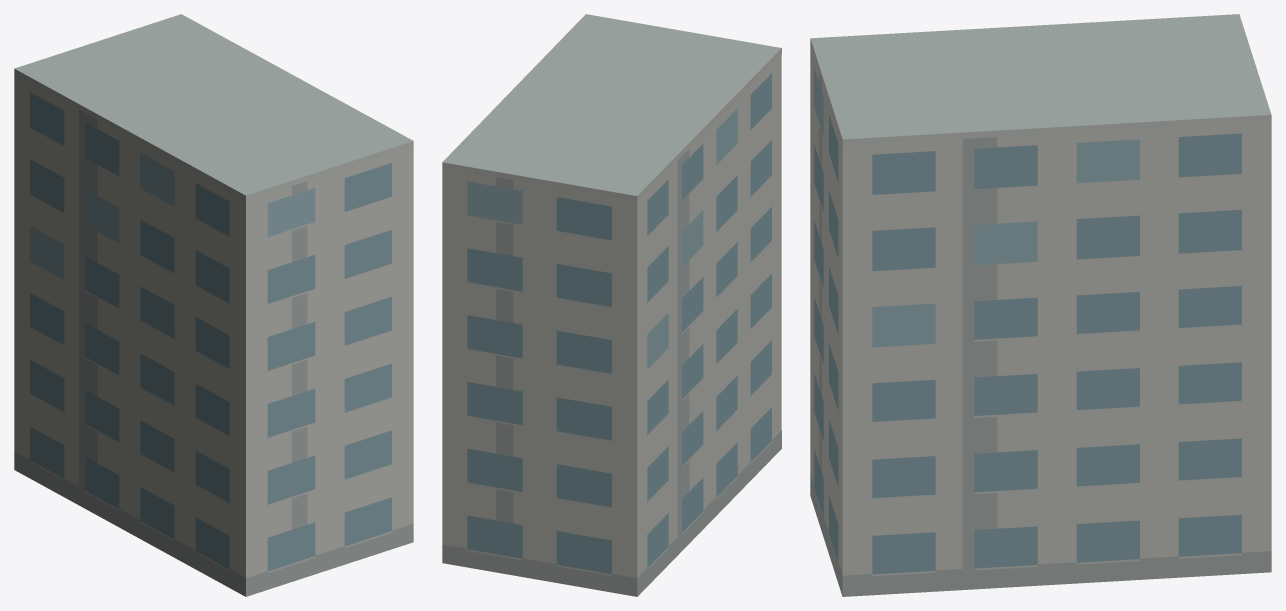
The model's file is survey-upis-32716161.glb.
3 views of the same model, side by side, from view 1: azimuth 30°, elevation 25°; view 2: azimuth 150°, elevation 25°; view 3: azimuth 270°, elevation 25° (orthographic). The views are drawn at different scales.
Visible parts, largest first — view 1: survey-upis-32716161.tmp; view 2: survey-upis-32716161.tmp; view 3: survey-upis-32716161.tmp.
Boxes of the visible parts, bbox=[...] form: survey-upis-32716161.tmp: bbox=[14, 14, 413, 596]; survey-upis-32716161.tmp: bbox=[442, 14, 781, 596]; survey-upis-32716161.tmp: bbox=[810, 14, 1271, 596].
Size of the model in its own units: 10.18 by 17.3 by 15.82.
